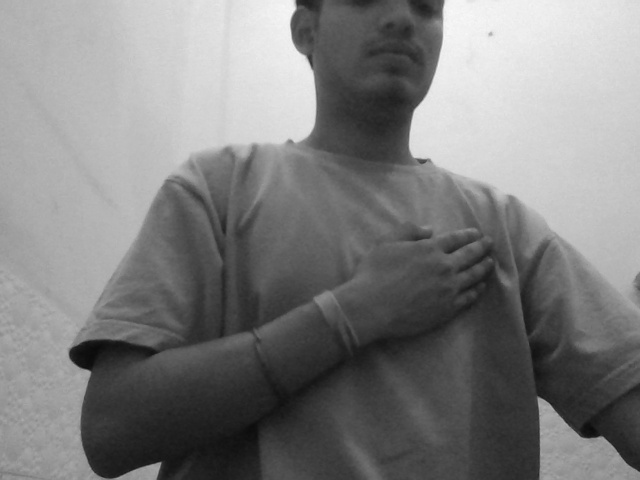Sorry: (336, 207, 536, 355)
